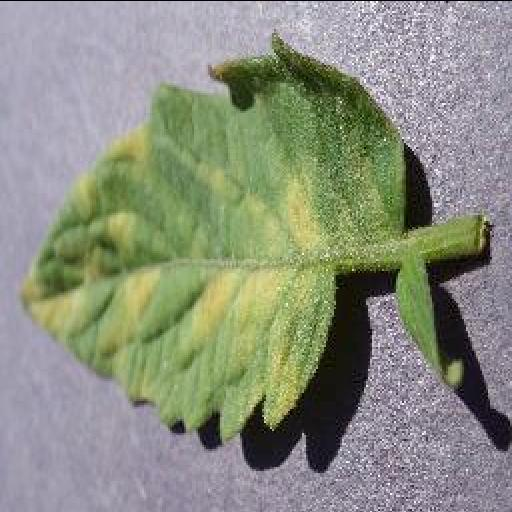disease_tomato: (18, 29, 406, 442)
